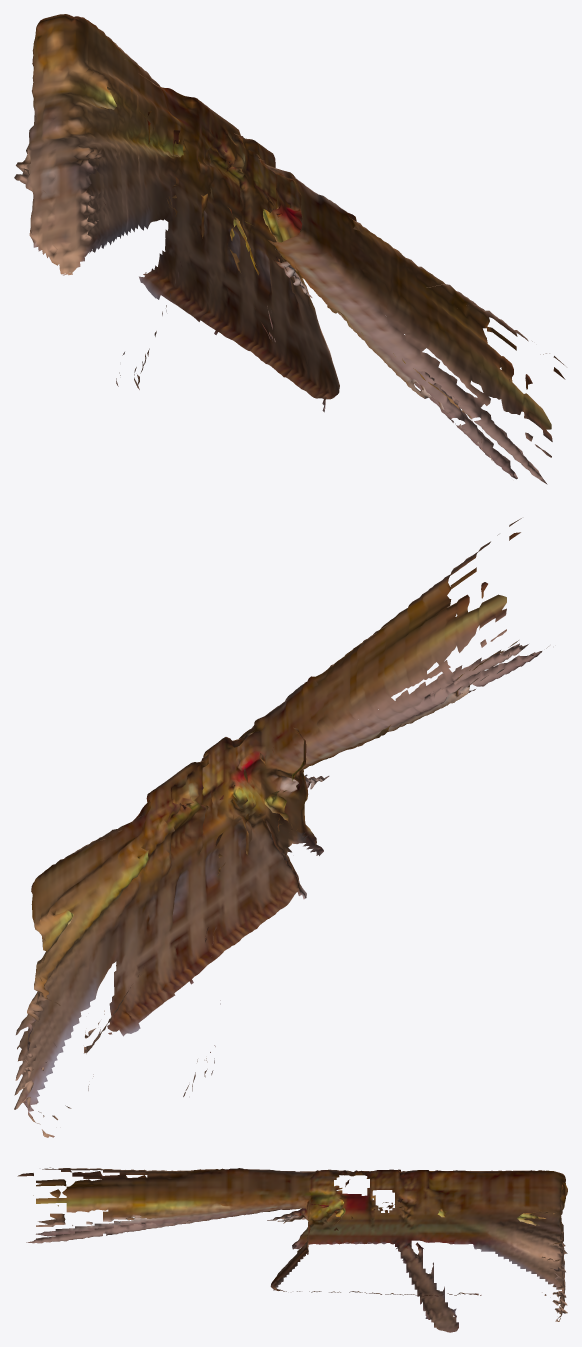
The model's file is papertrail-diagon-alley-arrival-v20260502210030-186e25bc-collider.glb.
The picture shows the model from 3 angles, top to bottom: view 1: azimuth 30°, elevation 25°; view 2: azimuth 150°, elevation 25°; view 3: azimuth 270°, elevation 25°; orthographic projection. The views are drawn at different scales.
Visible parts, largest first — view 1: world; view 2: world; view 3: world.
Part boxes in pixels (x1,y1,x2,y2): world: (14,14,565,484); world: (14,518,548,1137); world: (17,1167,567,1332).
Bounding box in the file's own units: 2.68 × 10.41 × 30.76.
